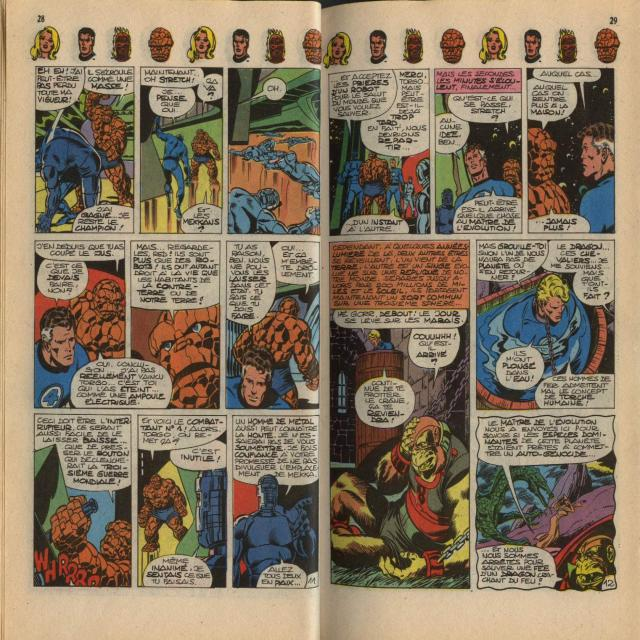comic_panel: (328, 239, 472, 591), (475, 414, 618, 592), (475, 238, 616, 410), (33, 64, 136, 236), (327, 67, 431, 237), (33, 412, 133, 588), (225, 238, 321, 412), (128, 239, 222, 412), (32, 238, 126, 410), (227, 67, 322, 237), (136, 414, 228, 588), (232, 413, 321, 590), (433, 67, 524, 236), (526, 66, 616, 235), (139, 65, 224, 236)
